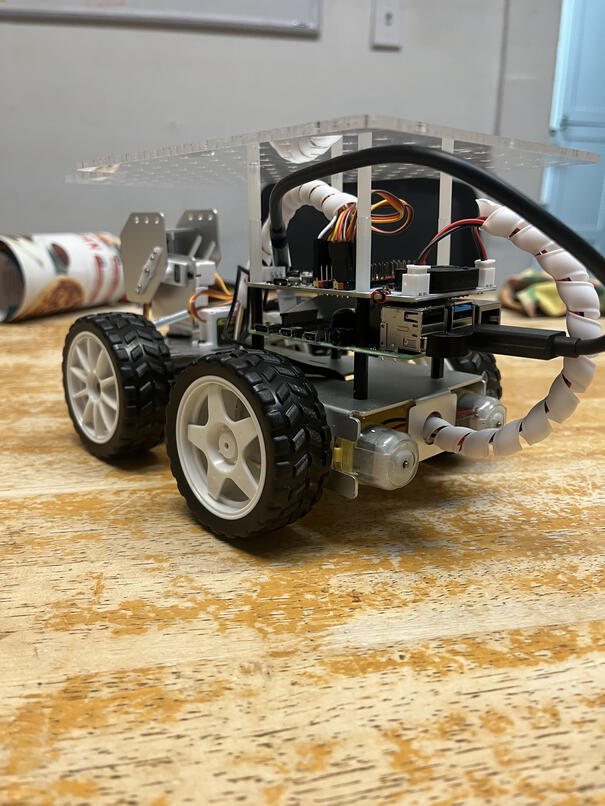vehicle: (52, 115, 605, 549)
